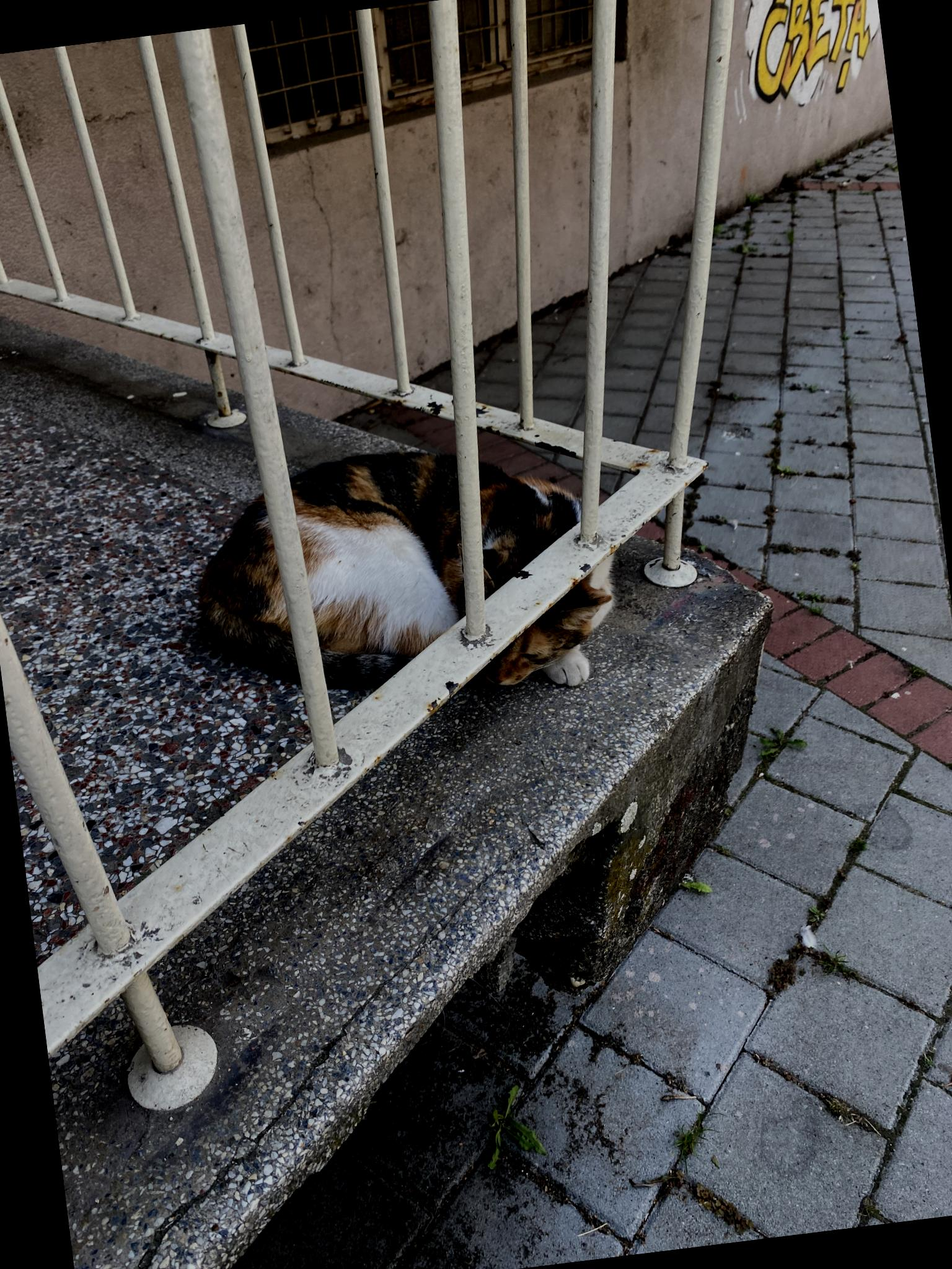macka: (179, 417, 622, 740)
